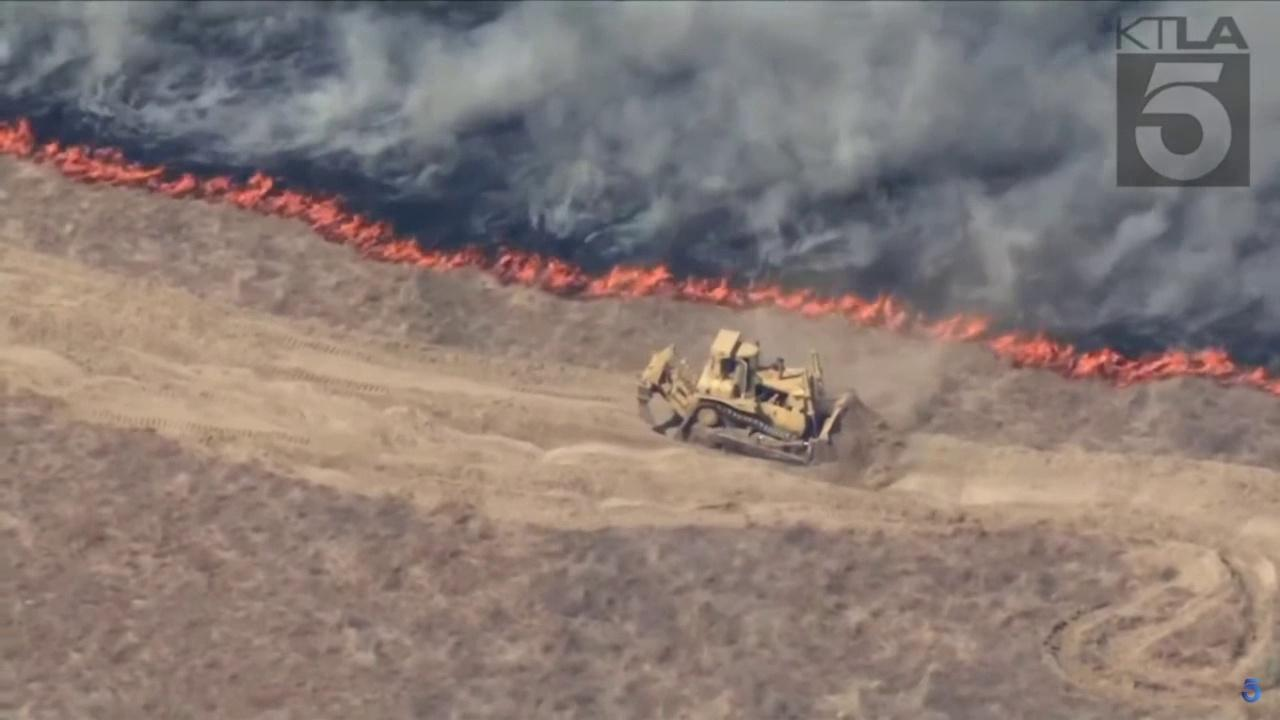fire: (0, 110, 1280, 397)
smoke: (0, 0, 1280, 352)
